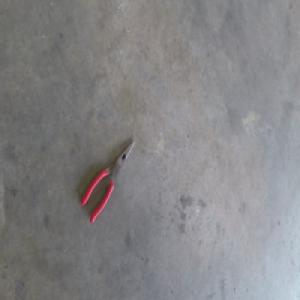Pliers: (81, 138, 135, 222)
